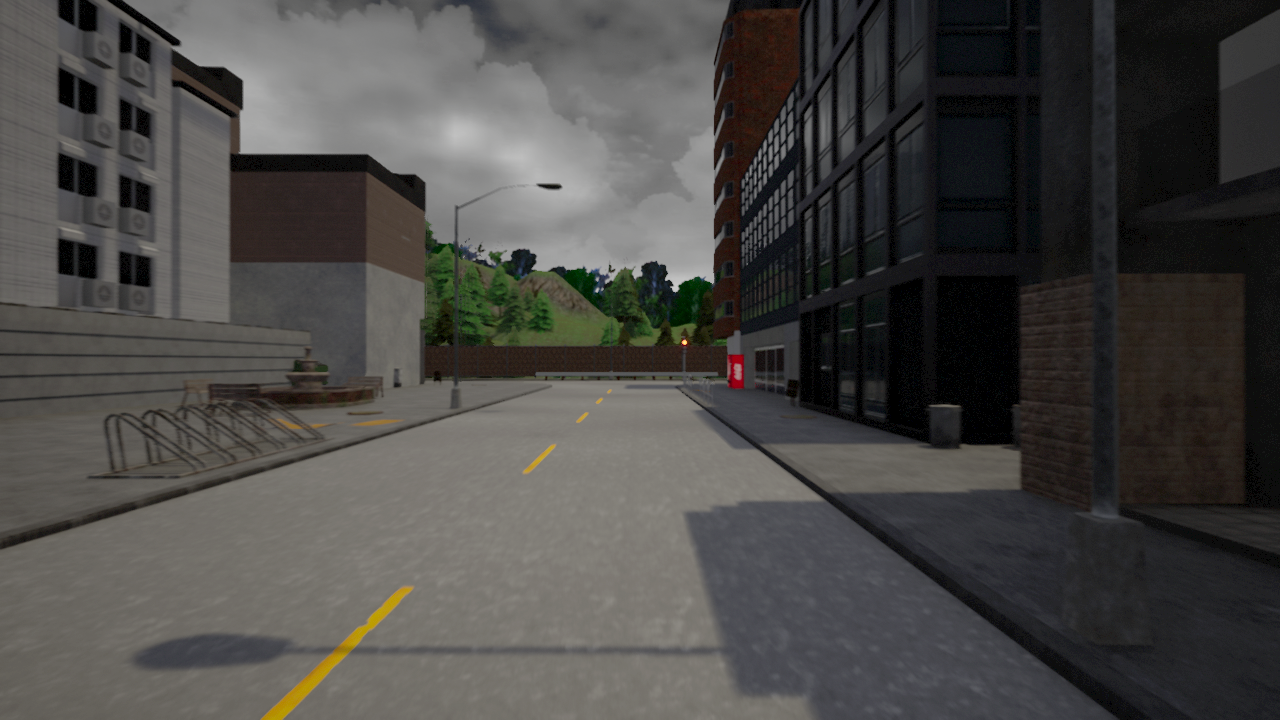red: (681, 339, 688, 354)
